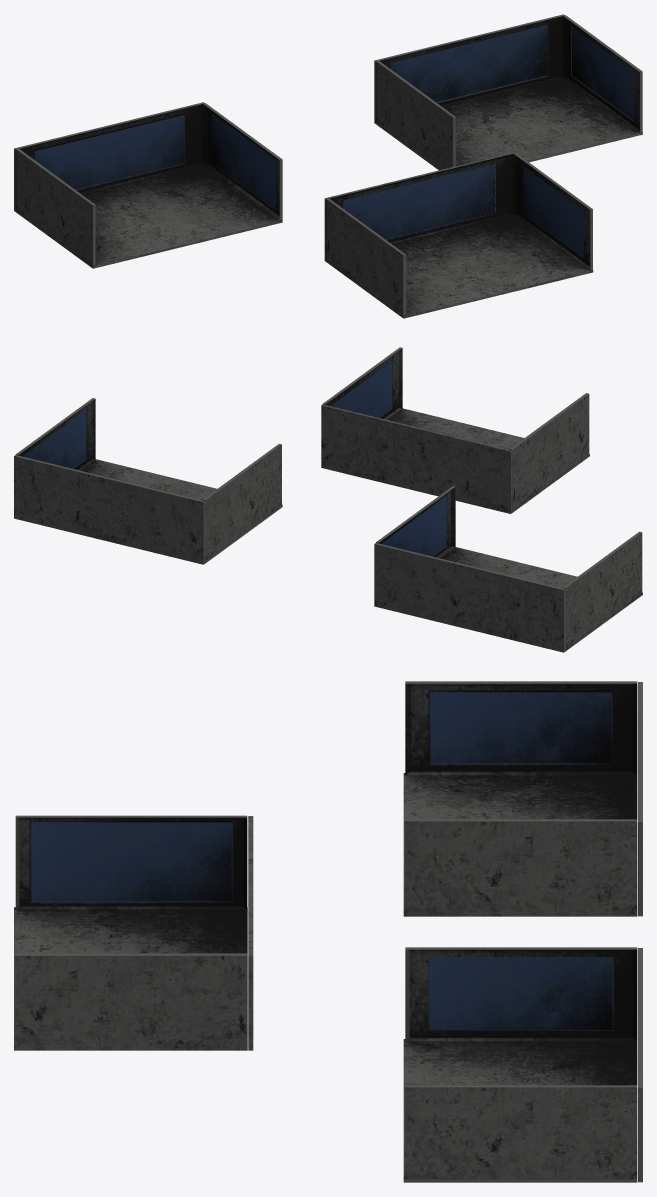
Rendered from ATO7.fbx.
3 views of the same model, one above another, from view 1: azimuth 30°, elevation 25°; view 2: azimuth 150°, elevation 25°; view 3: azimuth 270°, elevation 25° (orthographic). The views are drawn at different scales.
Parts seen in each view (by area): view 1: polySurface6, polySurface4, polySurface11, polySurface2, polySurface7, polySurface10, polySurface1, polySurface12, polySurface5, polySurface3, polySurface8, polySurface9; view 2: polySurface10, polySurface7, polySurface2, polySurface5, polySurface1, polySurface9, polySurface12, polySurface3, polySurface8, polySurface4, polySurface6, polySurface11; view 3: polySurface3, polySurface5, polySurface9, polySurface1, polySurface8, polySurface12, polySurface6, polySurface11, polySurface4, polySurface2, polySurface7, polySurface10.
Part boxes in pixels (x1=…): polySurface6: x1=16, y1=164, x2=282, y2=268; polySurface4: x1=326, y1=214, x2=593, y2=318; polySurface11: x1=376, y1=76, x2=642, y2=170; polySurface2: x1=324, y1=152, x2=515, y2=261; polySurface7: x1=14, y1=102, x2=204, y2=211; polySurface10: x1=374, y1=14, x2=564, y2=123; polySurface1: x1=326, y1=198, x2=406, y2=315; polySurface12: x1=563, y1=15, x2=642, y2=132; polySurface5: x1=16, y1=148, x2=95, y2=265; polySurface3: x1=513, y1=153, x2=592, y2=270; polySurface8: x1=203, y1=103, x2=282, y2=220; polySurface9: x1=376, y1=61, x2=455, y2=169; polySurface10: x1=14, y1=455, x2=205, y2=564; polySurface7: x1=374, y1=543, x2=565, y2=652; polySurface2: x1=321, y1=404, x2=512, y2=513; polySurface5: x1=563, y1=531, x2=642, y2=648; polySurface1: x1=509, y1=393, x2=589, y2=509; polySurface9: x1=202, y1=443, x2=281, y2=560; polySurface12: x1=15, y1=398, x2=95, y2=470; polySurface3: x1=323, y1=347, x2=402, y2=419; polySurface8: x1=376, y1=486, x2=455, y2=558; polySurface4: x1=387, y1=408, x2=589, y2=512; polySurface6: x1=440, y1=547, x2=642, y2=650; polySurface11: x1=80, y1=459, x2=282, y2=563; polySurface3: x1=14, y1=953, x2=247, y2=1047; polySurface5: x1=405, y1=681, x2=637, y2=775; polySurface9: x1=405, y1=947, x2=637, y2=1041; polySurface1: x1=15, y1=815, x2=247, y2=909; polySurface8: x1=404, y1=819, x2=637, y2=912; polySurface12: x1=404, y1=1085, x2=637, y2=1178; polySurface6: x1=403, y1=773, x2=637, y2=916; polySurface11: x1=403, y1=1039, x2=637, y2=1182; polySurface4: x1=14, y1=907, x2=247, y2=1050; polySurface2: x1=248, y1=816, x2=253, y2=1050; polySurface7: x1=638, y1=682, x2=642, y2=916; polySurface10: x1=638, y1=948, x2=642, y2=1182.
Size of the model in its own units: 72.87 by 7.97 by 47.69.
1 material, 1 textured.
